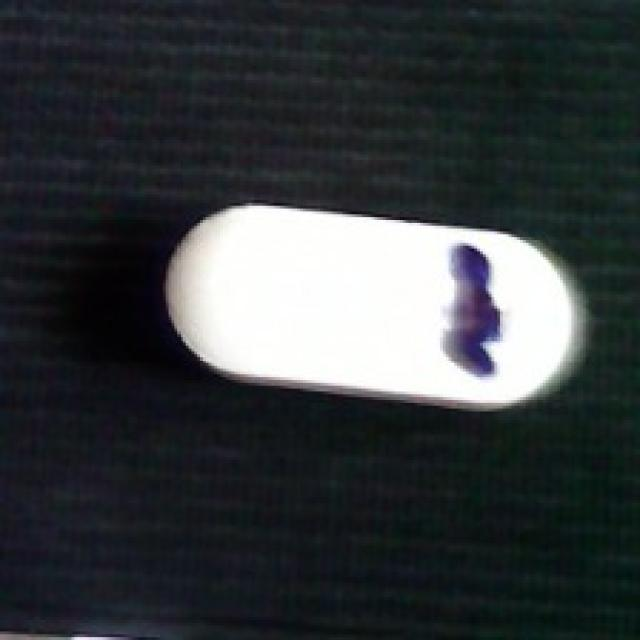defected: (160, 203, 597, 408)
